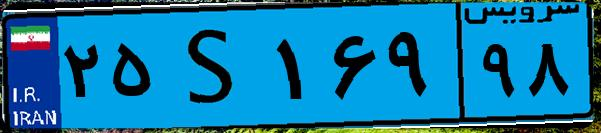1: (270, 28, 330, 110)
2: (57, 26, 110, 100)
5: (110, 28, 158, 98)
6: (330, 28, 385, 110)
8: (525, 38, 570, 115)
9: (385, 28, 445, 110), (475, 38, 525, 113)
S: (158, 12, 270, 120)
